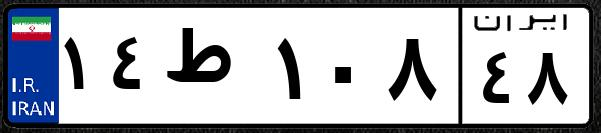0: (330, 28, 385, 110)
1: (270, 28, 330, 110), (57, 26, 110, 100)
4: (475, 38, 525, 113), (110, 28, 158, 98)
8: (385, 28, 445, 110), (525, 38, 570, 115)
ط: (158, 20, 270, 120)
